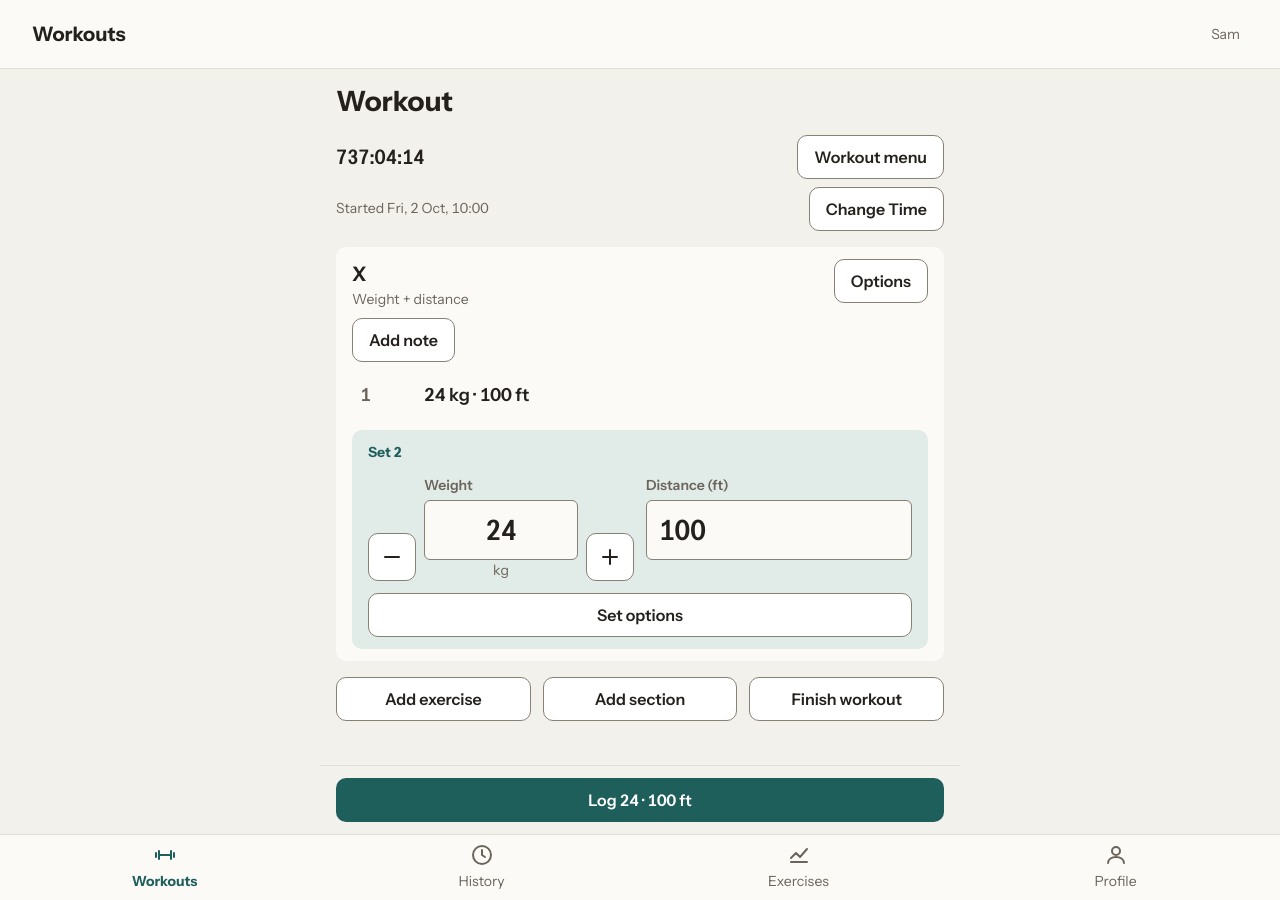
Test: 18.1 AC20 — the live set sheet › Review Focus 3 — a carry stored in ft opens with 100 selected, not the m default
The width and height of the screenshot is (1280, 900).
Expected: the heading "Workout" is shown, [336, 84, 453, 118]
Click the button "1 24 kg · 100 ft": (477, 395) [352, 374, 928, 418]
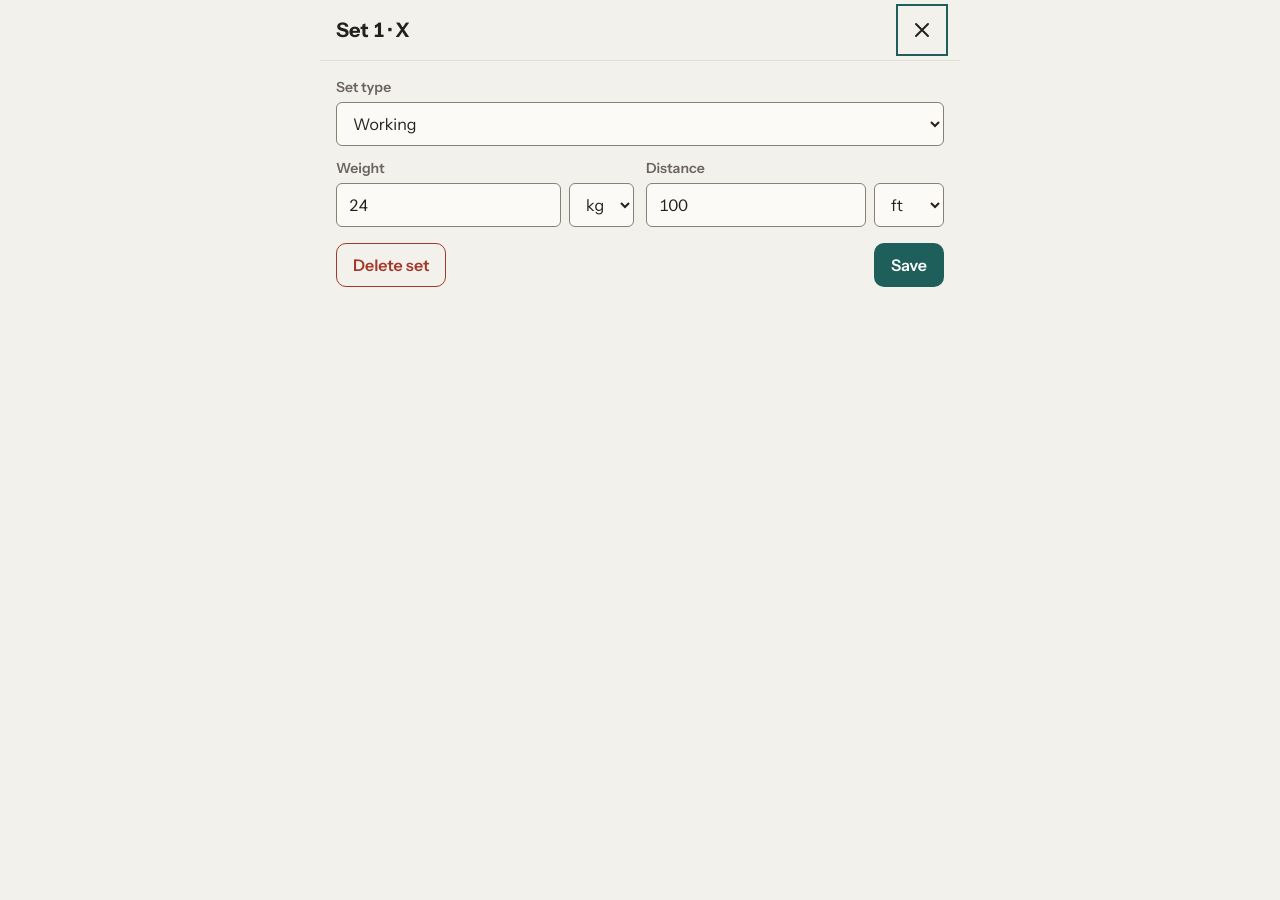
Expected: the dropdown named "Distance unit" shows "ft", [874, 183, 944, 227]
